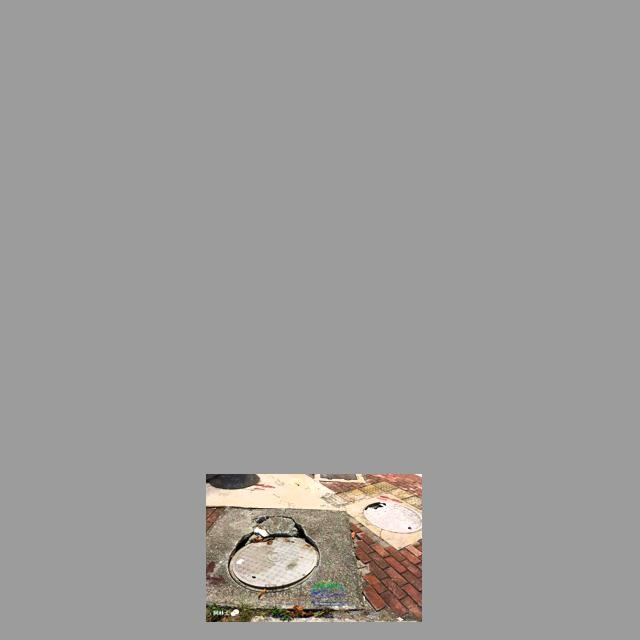circle: (208, 503, 368, 610)
